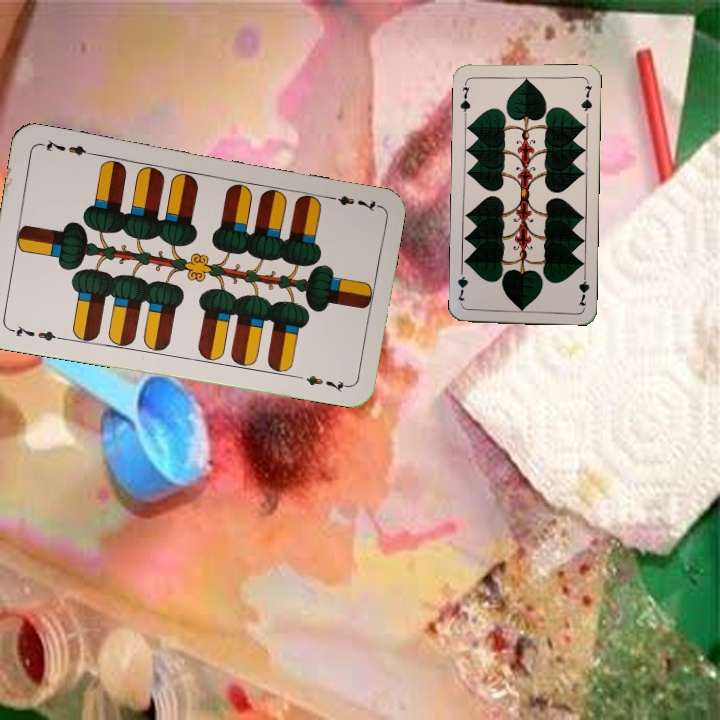E7: (321, 191, 380, 214), (5, 322, 64, 344)
G7: (574, 268, 592, 309), (456, 77, 472, 118)
